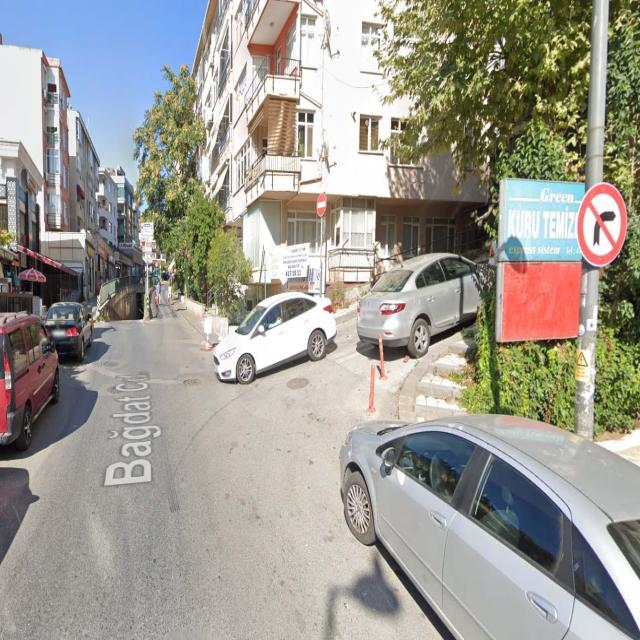girisyok: (316, 190, 326, 216)
sagadonulmez: (577, 183, 628, 268)
